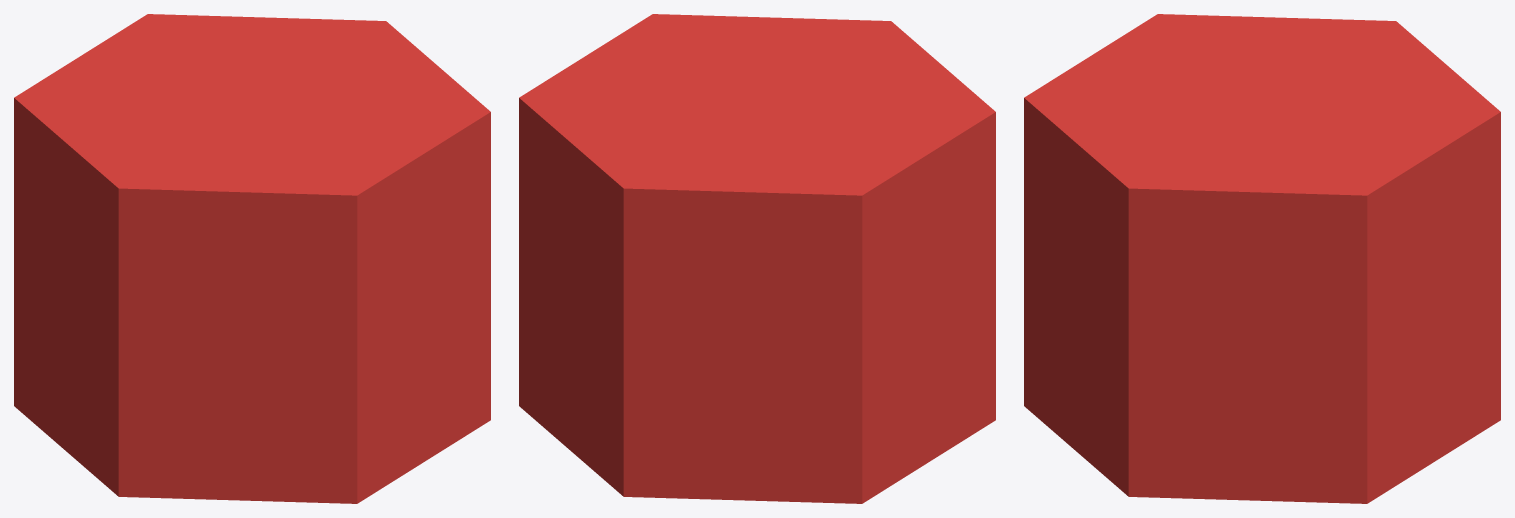
File: Button Mesh.fbx
3 views of the same model, side by side, from view 1: azimuth 30°, elevation 25°; view 2: azimuth 150°, elevation 25°; view 3: azimuth 270°, elevation 25° (orthographic).
Visible parts, largest first — view 1: Top.001; view 2: Top.001; view 3: Top.001.
Part boxes in pixels (x1,y1,x2,y2): Top.001: [14, 14, 490, 503]; Top.001: [519, 14, 995, 503]; Top.001: [1024, 14, 1500, 503].
Size of the model in its own units: 26.42 by 20.92 by 29.32.
